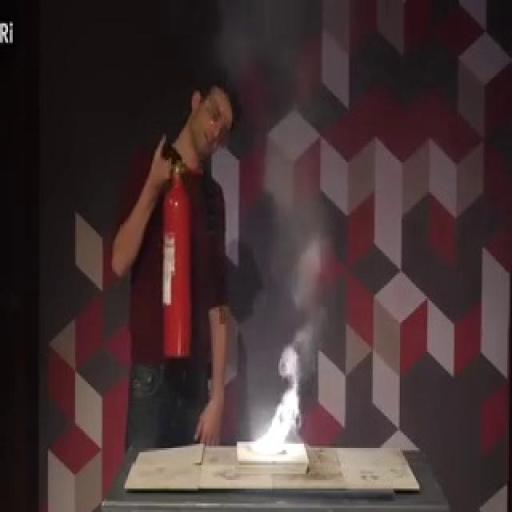smoke: (243, 358, 312, 464)
